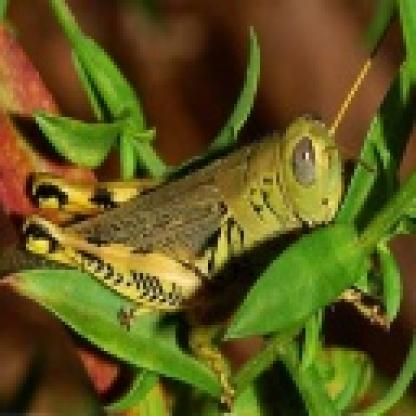grasshopper: (26, 65, 359, 306)
